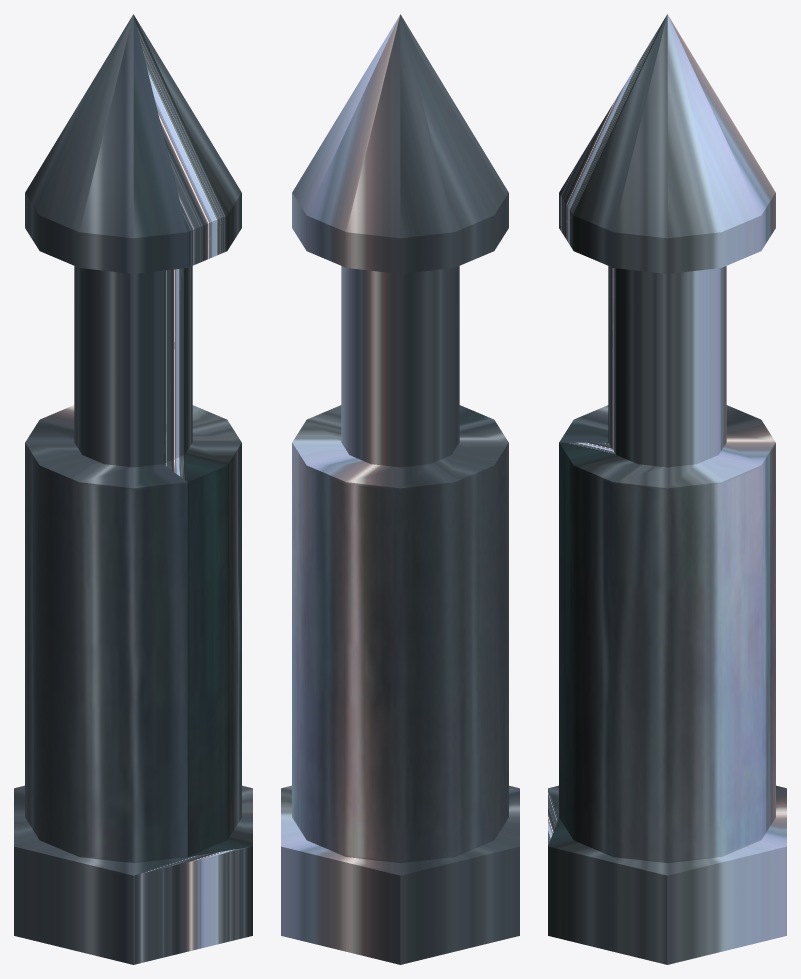
File: PegMetalT7.fbx
3 renders of one model, left to right at view 1: azimuth 30°, elevation 25°; view 2: azimuth 150°, elevation 25°; view 3: azimuth 270°, elevation 25°, orthographic.
Visible parts, largest first — view 1: PegMetalT7; view 2: PegMetalT7; view 3: PegMetalT7.
Part boxes in pixels (left/top/right/bottom): PegMetalT7: left=14, top=14, right=252, bottom=964; PegMetalT7: left=281, top=14, right=519, bottom=964; PegMetalT7: left=548, top=14, right=786, bottom=964.
Size of the model in its own units: 0.7179 by 2.56 by 0.6218.
1 material, 1 textured.
